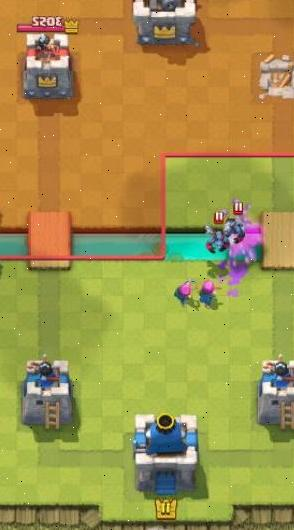enemy_minions: (202, 225, 232, 255), (223, 211, 249, 240)
player_archers: (195, 273, 222, 308), (170, 276, 197, 307)
